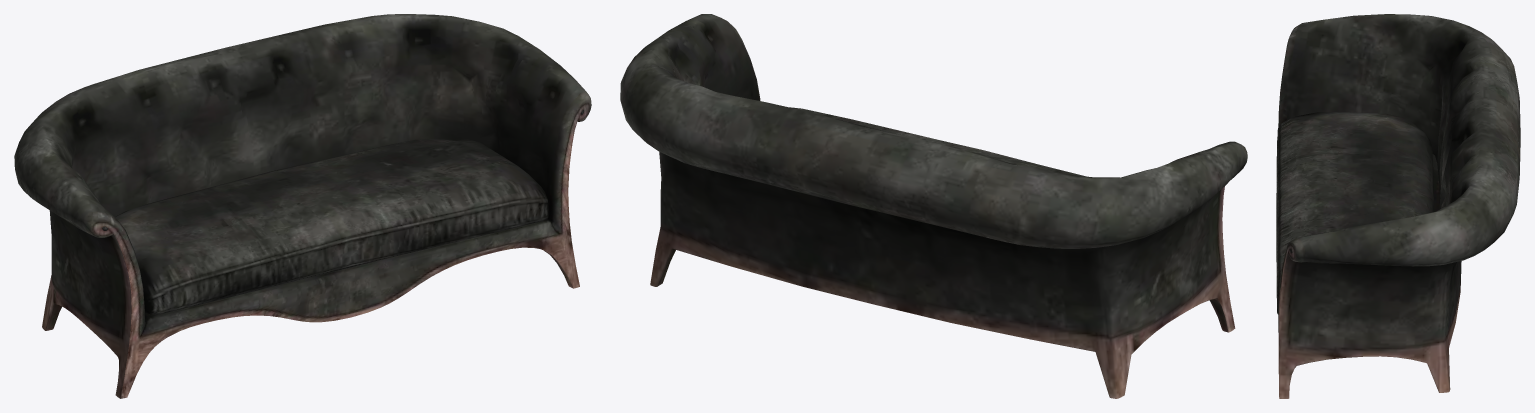
The model's file is sofa-two.glb.
3 views of the same model, side by side, from view 1: azimuth 30°, elevation 25°; view 2: azimuth 150°, elevation 25°; view 3: azimuth 270°, elevation 25° (orthographic). The views are drawn at different scales.
Visible parts, largest first — view 1: sofa_02_Base, sofa_02_Seat; view 2: sofa_02_Base, sofa_02_Seat; view 3: sofa_02_Base, sofa_02_Seat.
Boxes of the visible parts, <box> form: sofa_02_Base: <box>14,14,591,398</box>; sofa_02_Seat: <box>115,139,549,314</box>; sofa_02_Base: <box>620,14,1247,398</box>; sofa_02_Seat: <box>789,107,1086,176</box>; sofa_02_Base: <box>1278,14,1520,398</box>; sofa_02_Seat: <box>1276,112,1433,314</box>.
Bounding box in the file's own units: 2.08 × 0.816 × 0.9404.
Materials: 1 (1 with a texture image).
